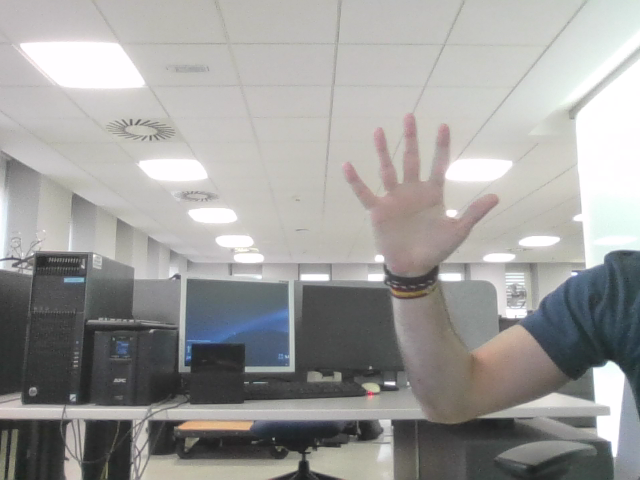Mano Abierta: (353, 127, 484, 245)
